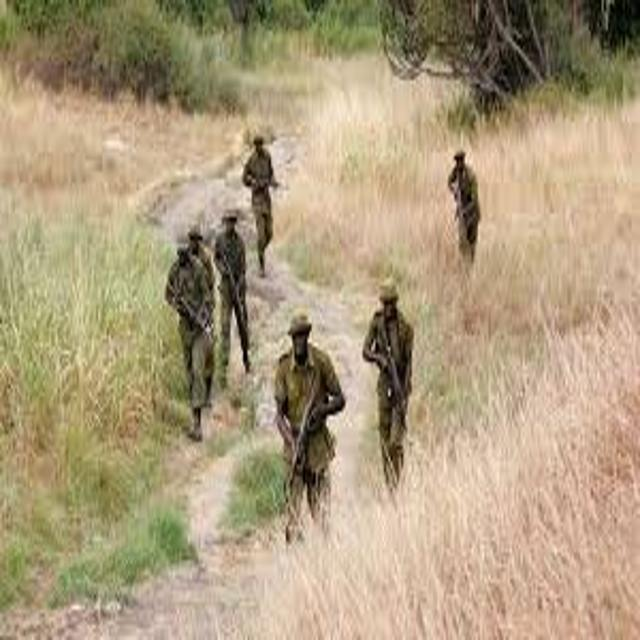gun: (358, 296, 428, 449), (274, 367, 348, 509), (211, 236, 263, 341)
poacher: (250, 299, 381, 573), (133, 214, 252, 459), (344, 256, 442, 520), (200, 195, 283, 406), (205, 118, 298, 288), (429, 140, 503, 277)
